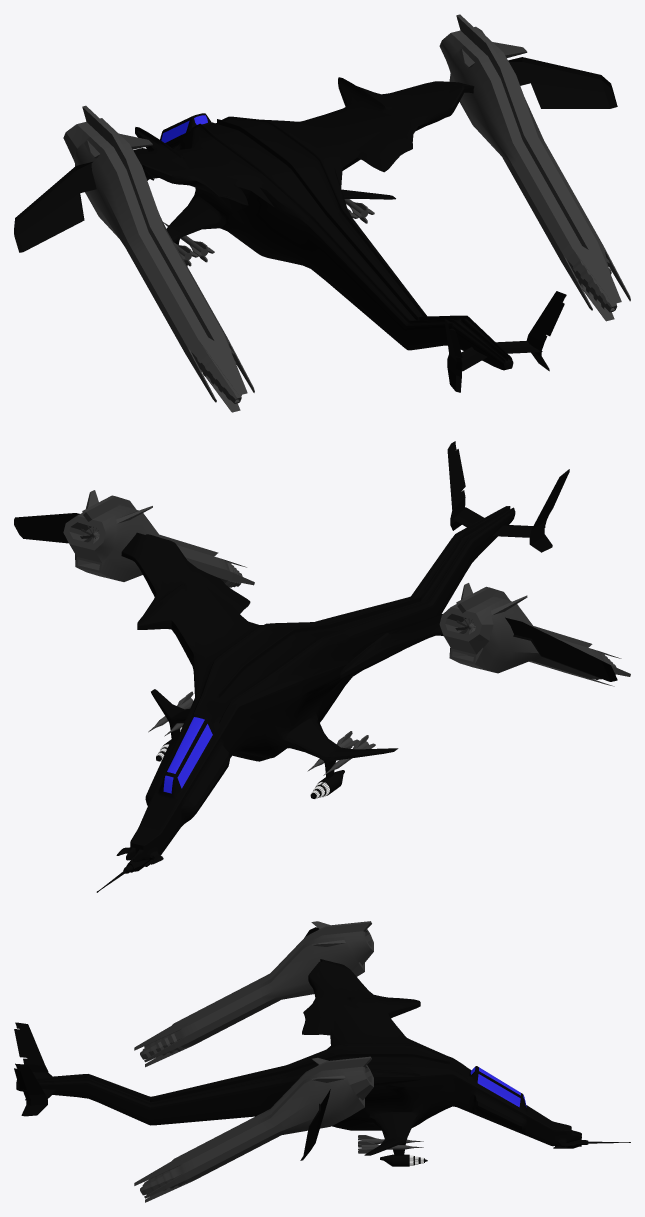
Rendered from SkyDragon.fbx.
3 views of the same model, one above another, from view 1: azimuth 30°, elevation 25°; view 2: azimuth 150°, elevation 25°; view 3: azimuth 270°, elevation 25° (orthographic). The views are drawn at different scales.
Parts seen in each view (by area): view 1: Cube.004, Cube.001, Cube.002, Plane.005, Plane, Plane.001, Plane.003; view 2: Cube.004, Cube.002, Cube.001, Plane, Plane.005, Plane.001, Plane.003; view 3: Cube.004, Cube.001, Cube.002, Plane.001, Plane.003, Plane.005.
Part boxes in pixels (x1,y1,x2,y2): Cube.004: (133, 77, 513, 370); Cube.001: (439, 14, 630, 321); Cube.002: (63, 105, 254, 412); Plane.005: (508, 57, 617, 108); Plane: (14, 162, 96, 252); Plane.001: (526, 291, 566, 371); Plane.003: (444, 318, 462, 392); Cube.004: (116, 506, 515, 864); Cube.002: (439, 583, 630, 686); Cube.001: (63, 490, 254, 587); Plane: (505, 617, 617, 681); Plane.005: (14, 513, 79, 543); Plane.001: (447, 441, 465, 530); Plane.003: (529, 469, 569, 552); Cube.004: (16, 959, 581, 1155); Cube.001: (134, 1056, 373, 1202); Cube.002: (134, 921, 373, 1067); Plane.001: (14, 1063, 47, 1116); Plane.003: (14, 1022, 48, 1072); Plane.005: (300, 1089, 330, 1160).
Size of the model in its own units: 582 by 198 by 701.
